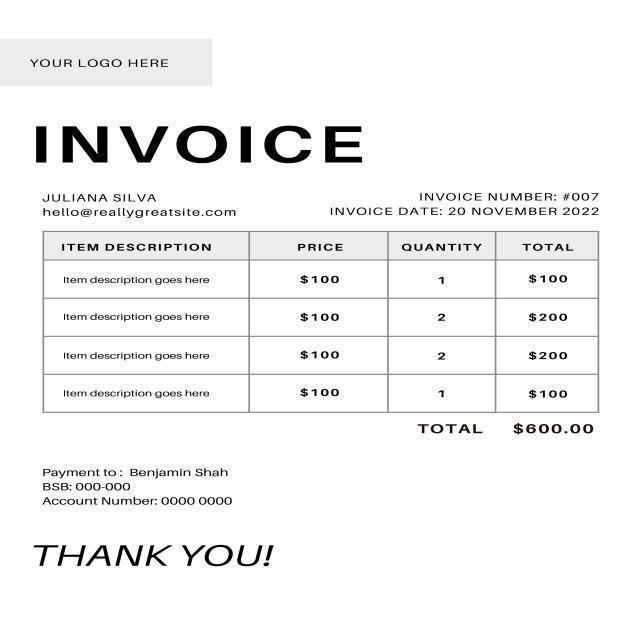paragraph: (31, 108, 372, 171), (34, 452, 263, 518), (29, 531, 297, 582), (324, 186, 608, 225), (33, 183, 252, 224), (14, 41, 198, 82), (411, 411, 611, 445)
table: (36, 226, 604, 404)
